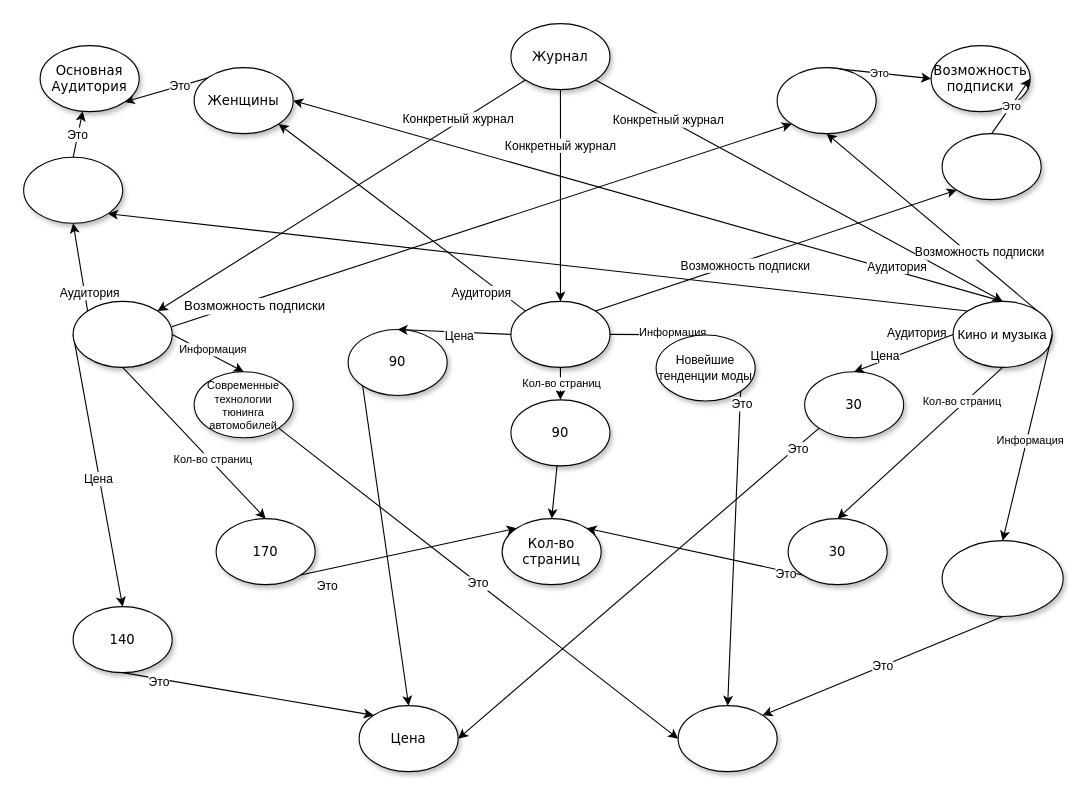
Image size: 1089x799. Some labels were removed from this diagram. The shapes that lost their labels are listed below. From the top down, each one's centre as x and y in pixels, then its label:
At [827,101]: "Отсутствует".
At [992,167]: "Присутствует".
At [73,191]: "Мужчины".
At [123,335]: "Тюнинг автомобилей".
At [561,335]: "Рукоделие".
At [1003,579]: "Только актуальная ин-формация и кино и музыке".
At [728,739]: "Информация в журнале".
